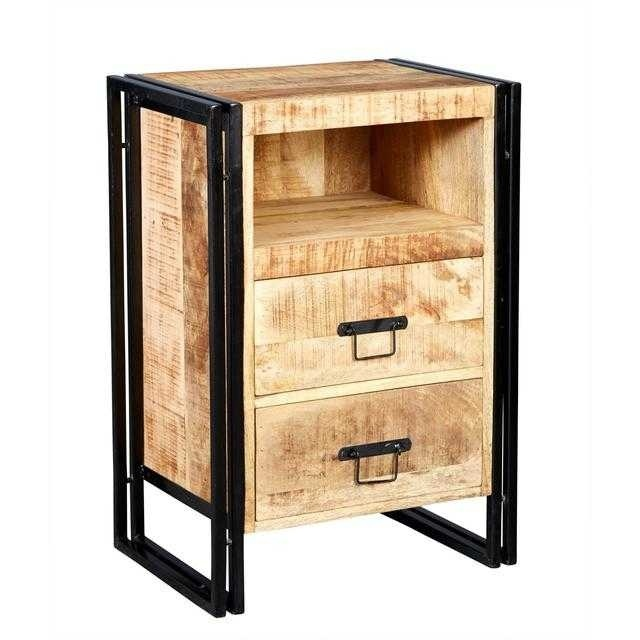obstacle: (108, 60, 519, 615)
